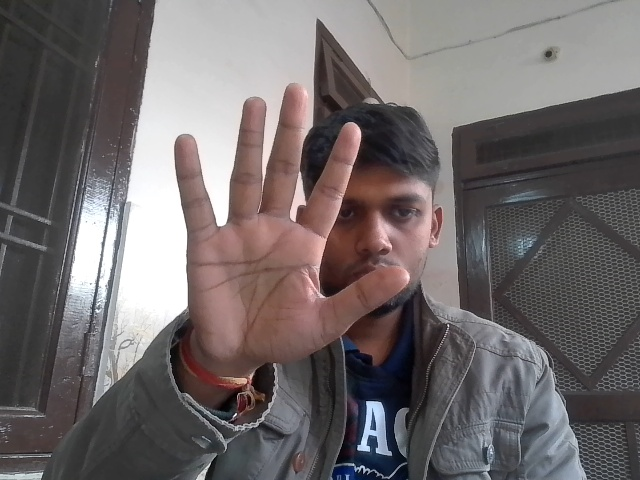Hello: (152, 74, 412, 405)
